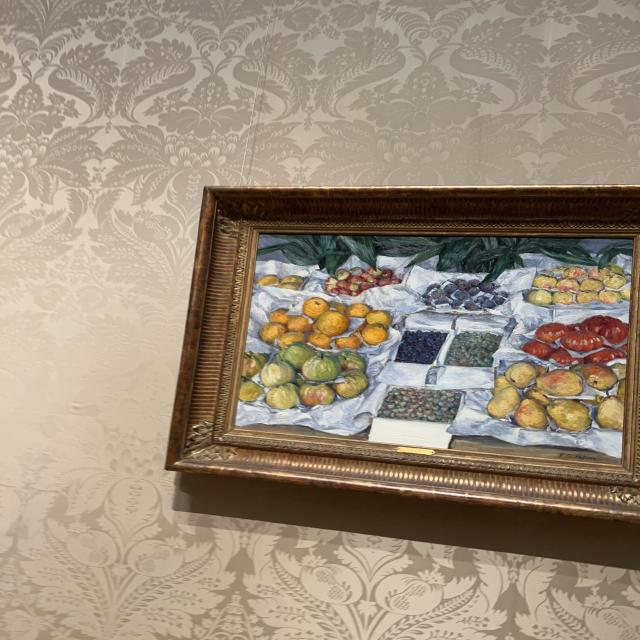fruits: (241, 240, 629, 460)
